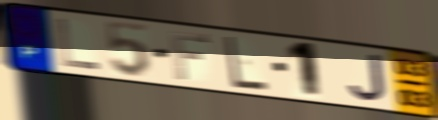1: (285, 40, 323, 102)
5: (104, 19, 152, 80)
F: (168, 30, 212, 82)
J: (347, 53, 389, 103)
L: (223, 34, 270, 93), (54, 17, 102, 72)
